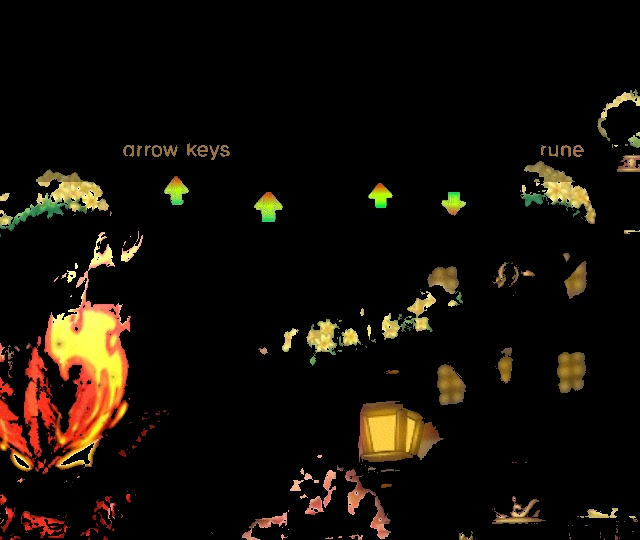down: (437, 184, 479, 223)
up: (249, 187, 291, 228), (158, 170, 197, 213), (361, 176, 398, 212)
